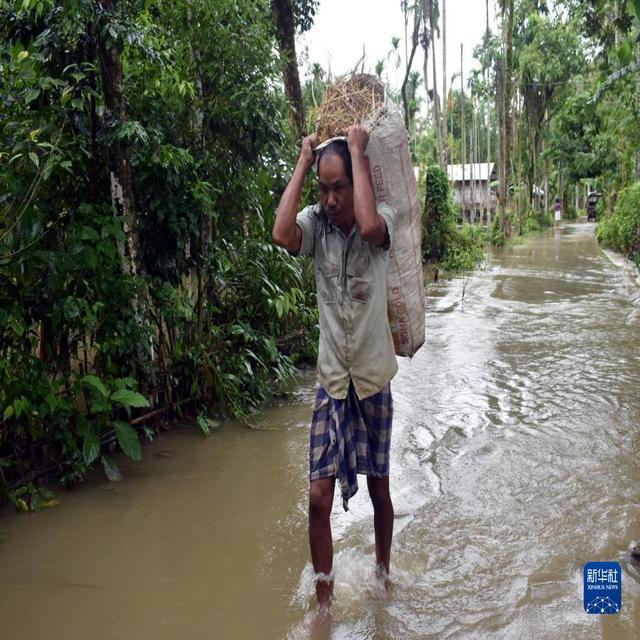Person-RiskLevel2: (260, 112, 433, 611)
